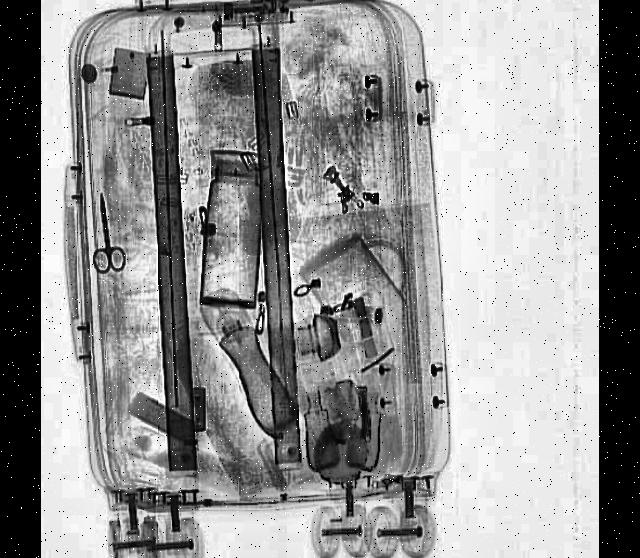Scissors: (84, 183, 130, 277)
